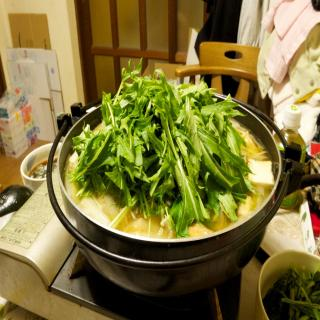Salad: (63, 74, 270, 245)
